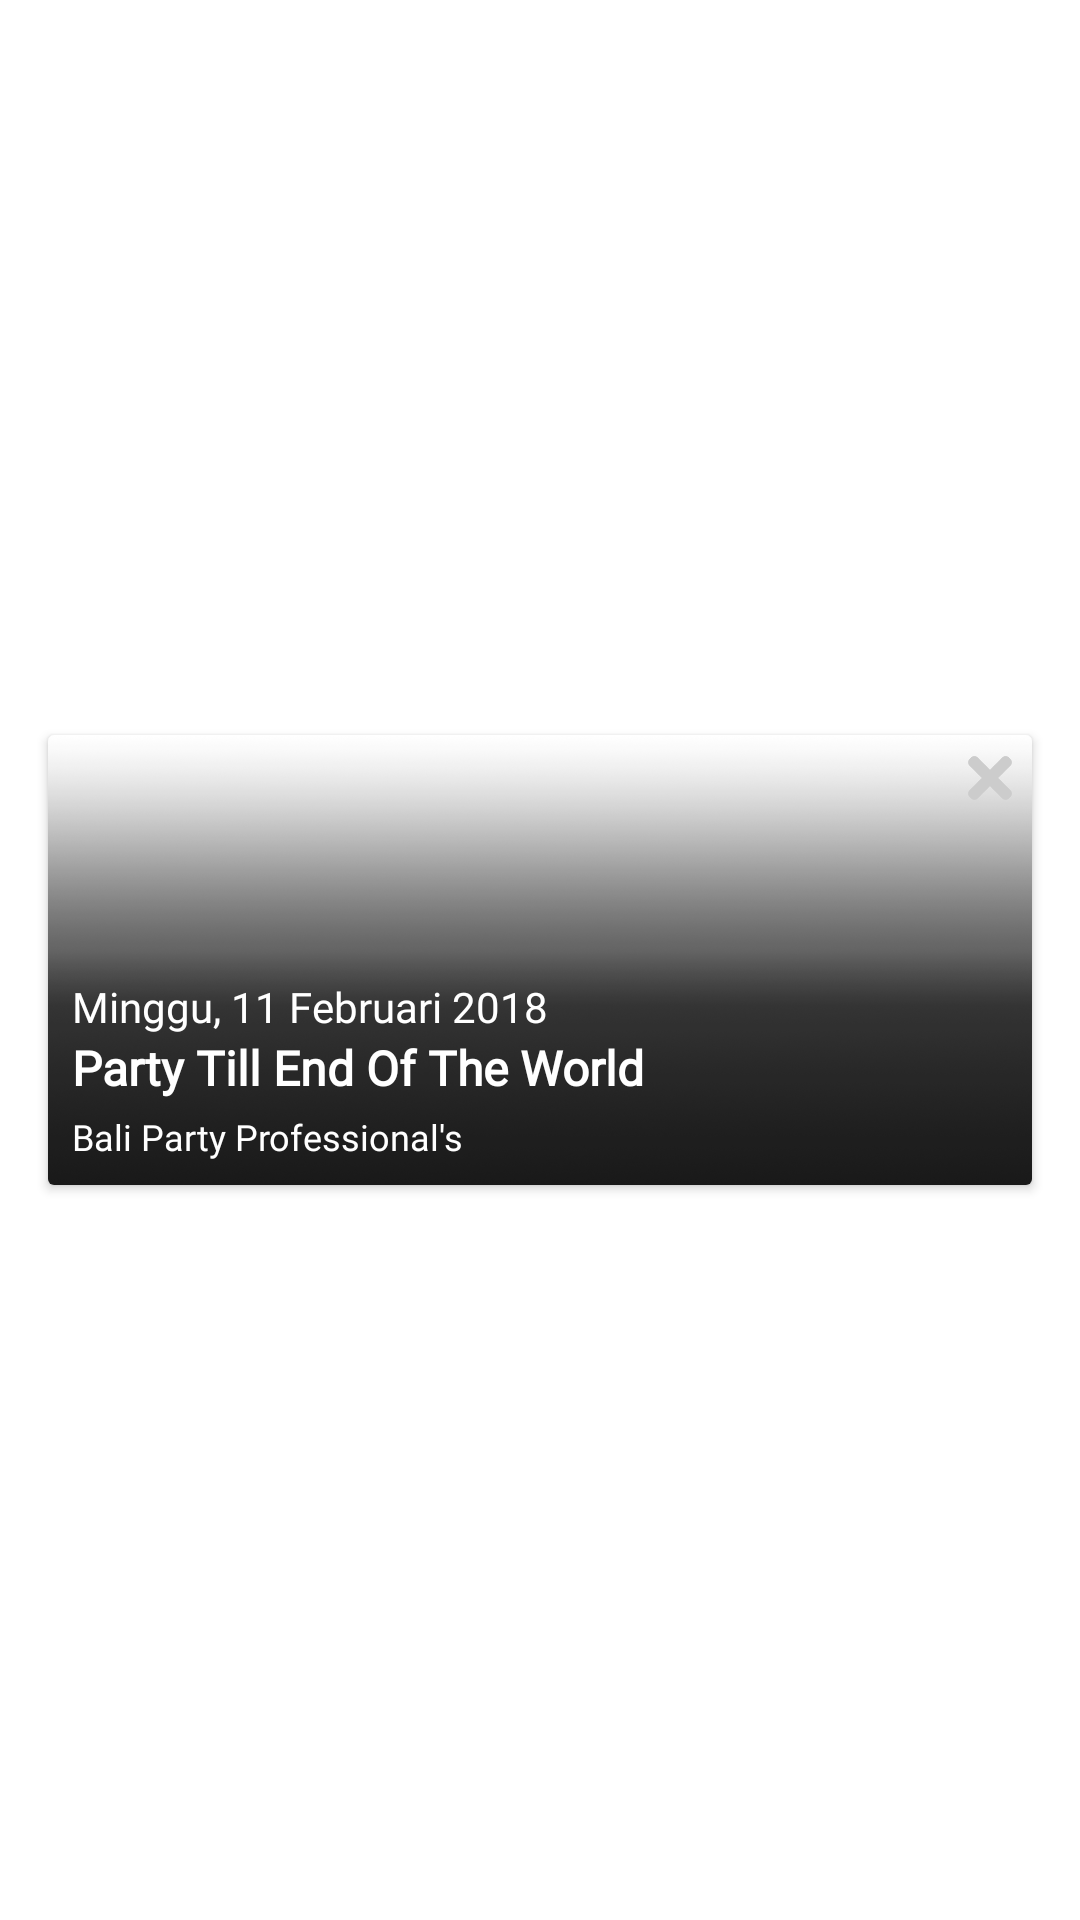

Icon click points for this 1080px x 1920px phone screenshot, format (x,y):
delete: (990,777)
